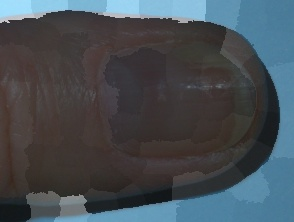Nail_psoriasis: (159, 14, 276, 161)
